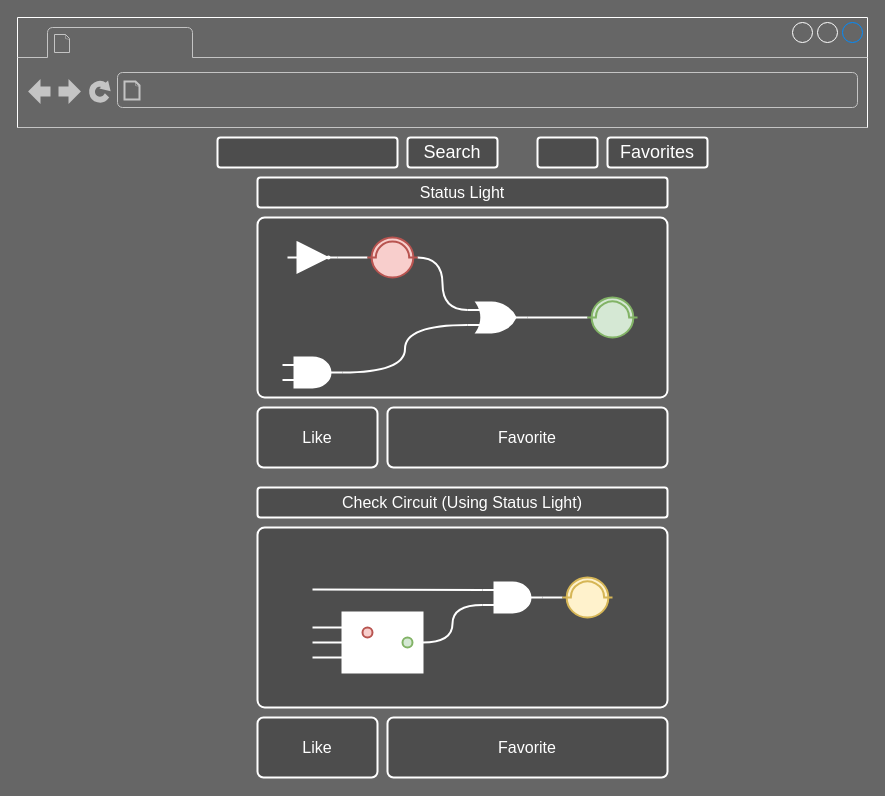
Image size: 885x796. Some labels were removed from this diagram. The shapes that lost their labels are listed below. From the top down, each one's centre as x and y in pixels, then its label:
At point 132,42: "Gates".
At point 272,90: "https://gates.com".
At point 567,152: "New".
